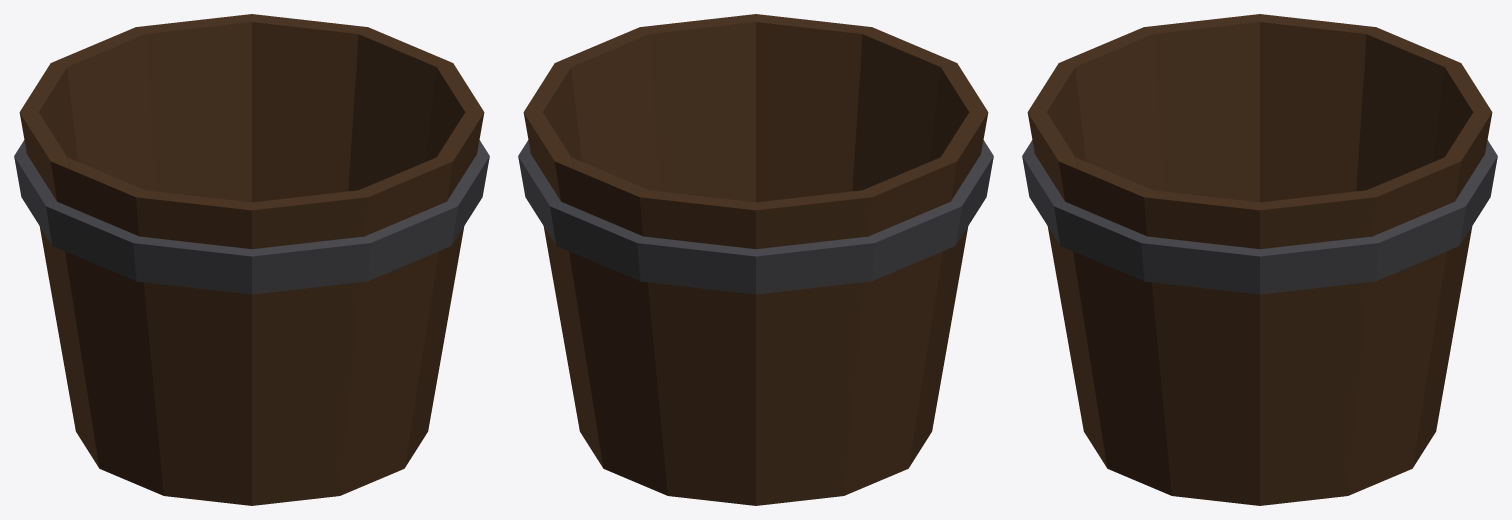
The model's file is basket2.fbx.
3 renders of one model, left to right at view 1: azimuth 30°, elevation 25°; view 2: azimuth 150°, elevation 25°; view 3: azimuth 270°, elevation 25°, orthographic.
Parts seen in each view (by area): view 1: basket2; view 2: basket2; view 3: basket2.
Part boxes in pixels (x1,y1,x2,y2): basket2: [14, 14, 489, 505]; basket2: [518, 14, 993, 505]; basket2: [1022, 14, 1497, 505].
Bounding box in the file's own units: 95.3 × 70.58 × 95.3.
